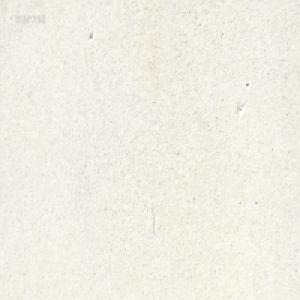Wrench: (158, 0, 164, 4)
